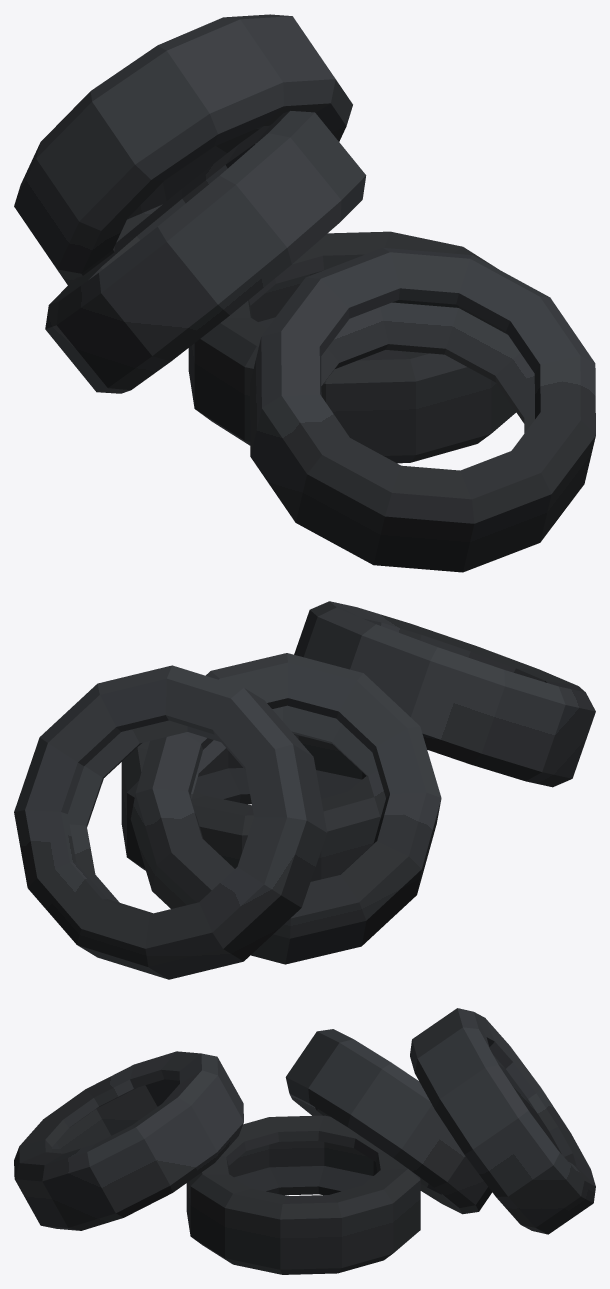
File: tire_pile.glb
3 renders of one model, top to bottom at view 1: azimuth 30°, elevation 25°; view 2: azimuth 150°, elevation 25°; view 3: azimuth 270°, elevation 25°, orthographic. The views are drawn at different scales.
Parts seen in each view (by area): view 1: SM_Prop_Tire_Pile_01; view 2: SM_Prop_Tire_Pile_01; view 3: SM_Prop_Tire_Pile_01.
Part boxes in pixels (x1,y1,x2,y2): SM_Prop_Tire_Pile_01: (14,14,595,572); SM_Prop_Tire_Pile_01: (14,601,595,979); SM_Prop_Tire_Pile_01: (14,1008,595,1274).
Bounding box in the file's own units: 1.05 × 0.8191 × 2.01.
1 material, 1 textured.
